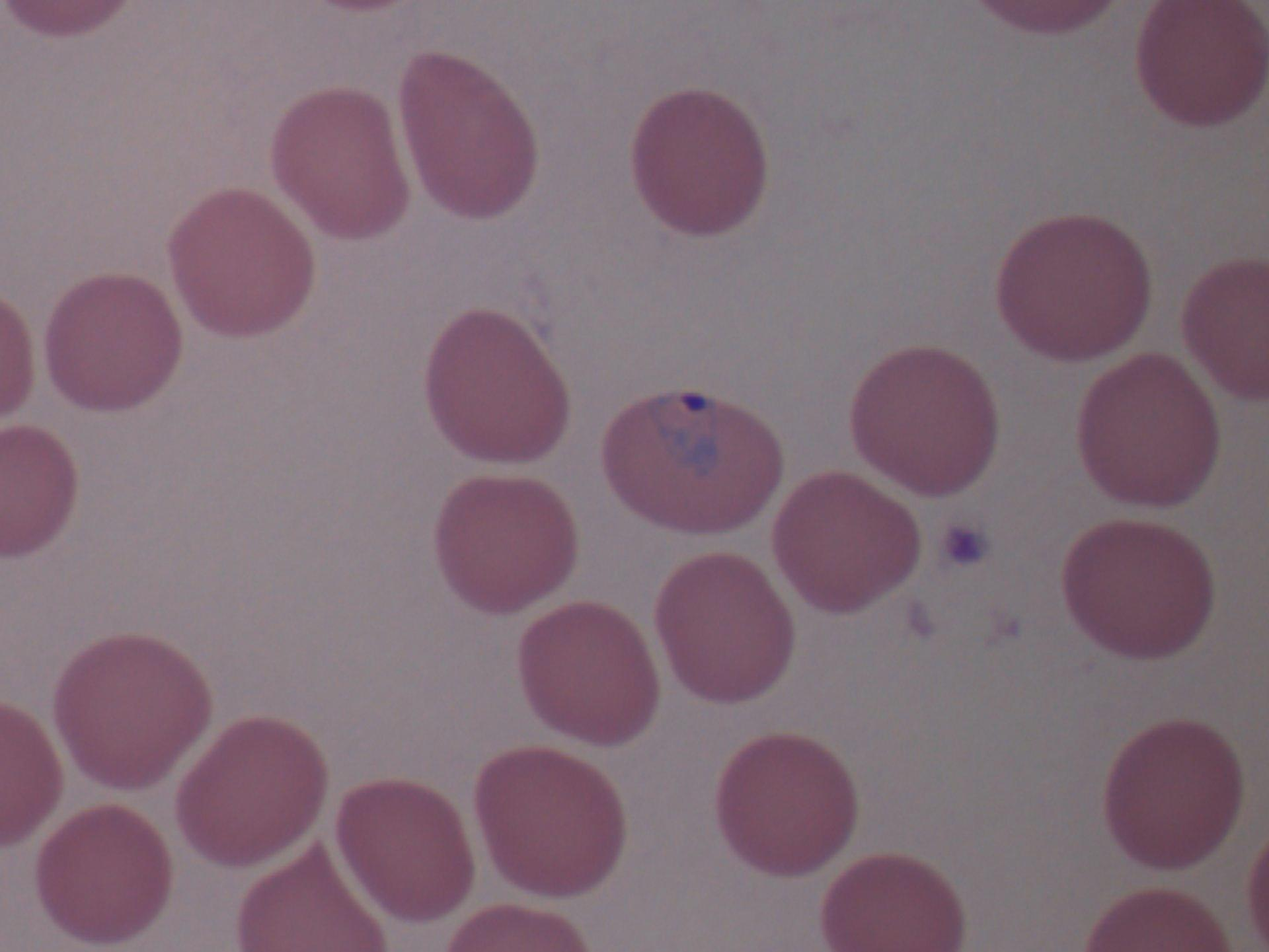Infected: (485, 413, 671, 576)
Uninfected: (789, 25, 949, 179), (940, 82, 1097, 238), (734, 725, 867, 909), (1062, 161, 1213, 320), (641, 51, 787, 213), (947, 611, 1099, 765), (48, 285, 209, 429), (273, 448, 417, 608), (701, 485, 840, 648), (119, 589, 276, 733), (348, 338, 504, 482), (53, 443, 189, 604), (859, 712, 999, 867), (610, 197, 748, 353), (24, 76, 166, 225), (692, 324, 833, 473), (498, 716, 636, 868), (416, 73, 557, 217), (480, 245, 608, 398), (1102, 0, 1234, 148), (1088, 536, 1219, 674), (9, 818, 134, 952), (300, 0, 452, 100)
